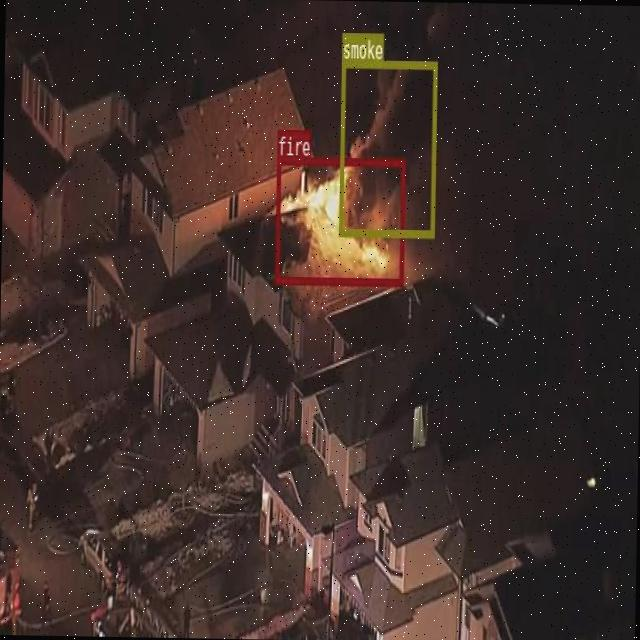fire: (274, 156, 404, 284)
smoke: (338, 58, 436, 236)
